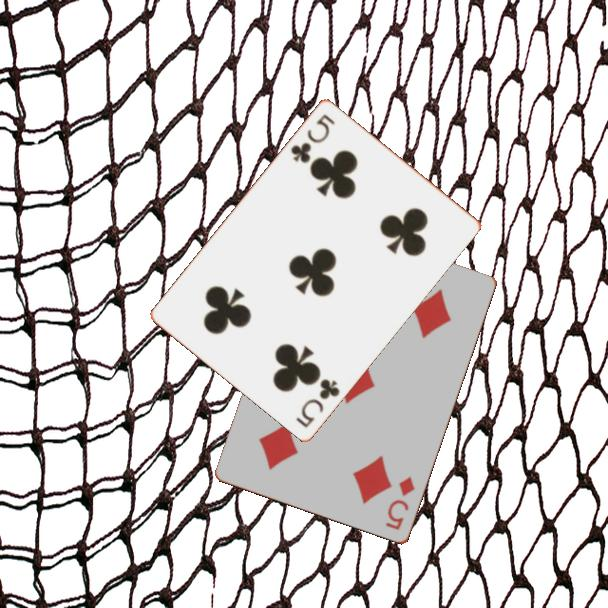c05: (287, 110, 338, 166), (292, 375, 343, 431)
d05: (382, 473, 418, 533)
